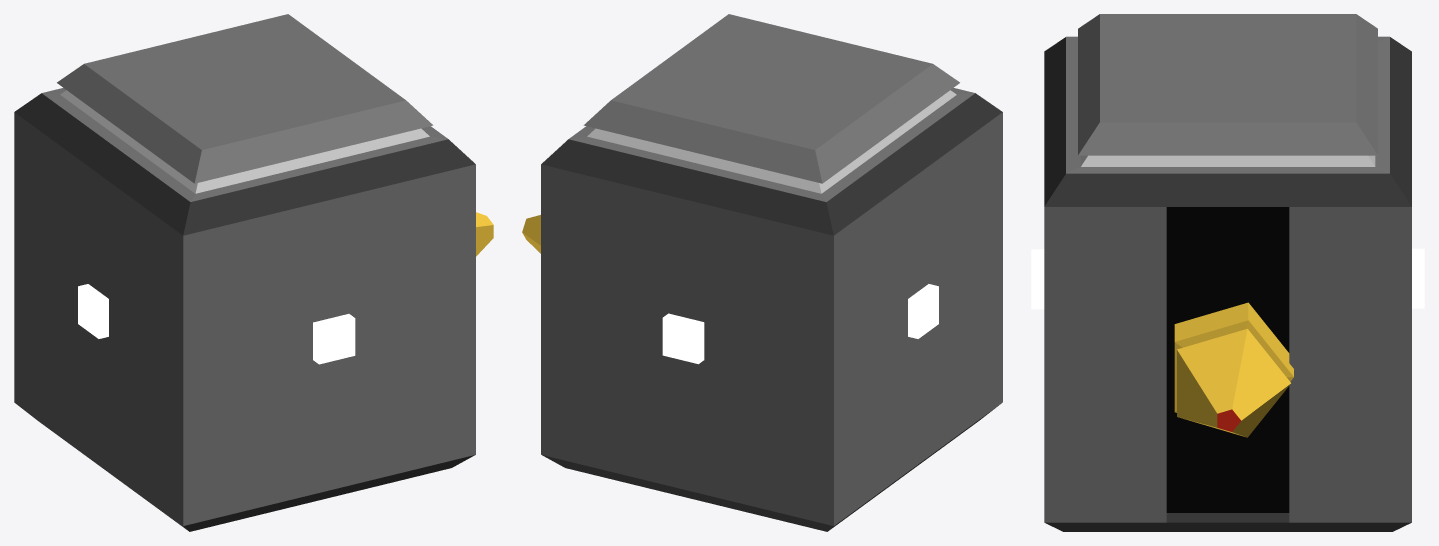
File: Small Trap.fbx
3 renders of one model, left to right at view 1: azimuth 30°, elevation 25°; view 2: azimuth 150°, elevation 25°; view 3: azimuth 270°, elevation 25°, orthographic. The views are drawn at different scales.
Parts seen in each view (by area): view 1: Cube, Cylinder; view 2: Cube; view 3: Cube, Cylinder.
Boxes of the visible parts, x1,y1,x2,y2 form: Cube: (14,14,475,531); Cylinder: (476,212,493,256); Cube: (541,14,1002,531); Cube: (1031,14,1424,531); Cylinder: (1174,302,1293,437).
Size of the model in its own units: 42.82 by 54.71 by 47.33.
